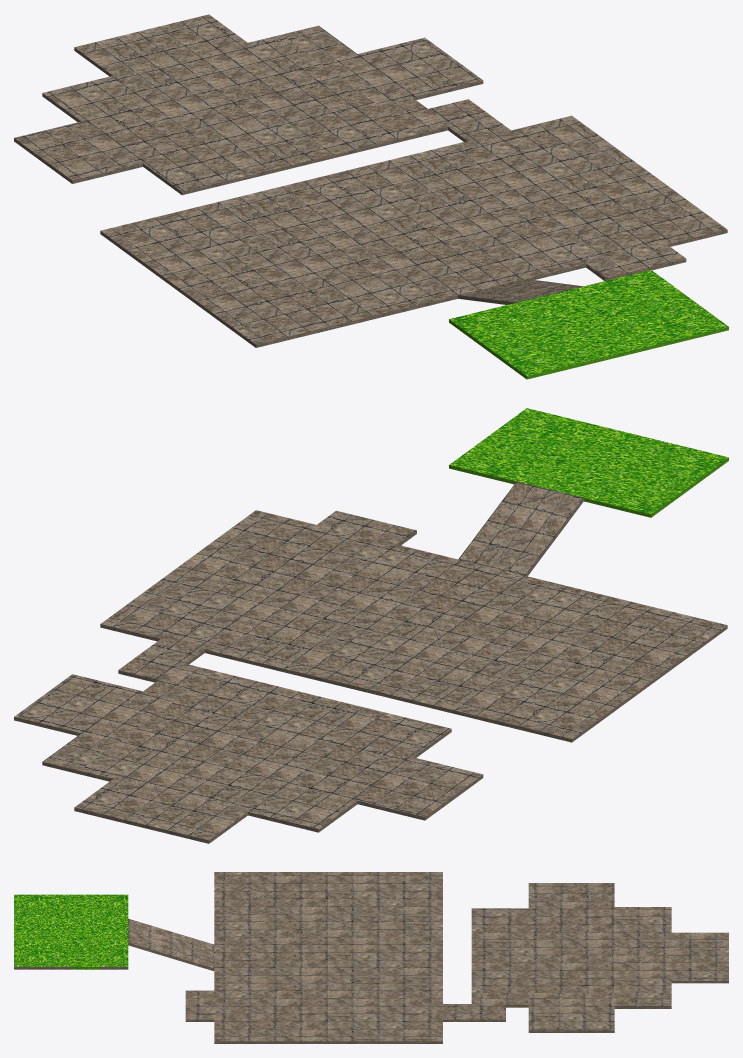
The model's file is TombGame2Floor.fbx.
The picture shows the model from 3 angles, top to bottom: view 1: azimuth 30°, elevation 25°; view 2: azimuth 150°, elevation 25°; view 3: azimuth 270°, elevation 25°; orthographic projection. The views are drawn at different scales.
Parts seen in each view (by area): view 1: Cube.017; view 2: Cube.017; view 3: Cube.017.
Boxes of the visible parts, <box> form: Cube.017: <box>14,14,728,379</box>; Cube.017: <box>14,408,728,843</box>; Cube.017: <box>14,872,728,1043</box>.
Bounding box in the file's own units: 11403 × 896 × 20364.
